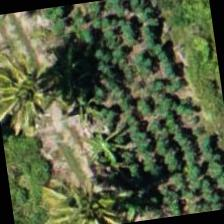Kelapa_Sawit: (0, 36, 68, 135), (33, 158, 133, 223)
